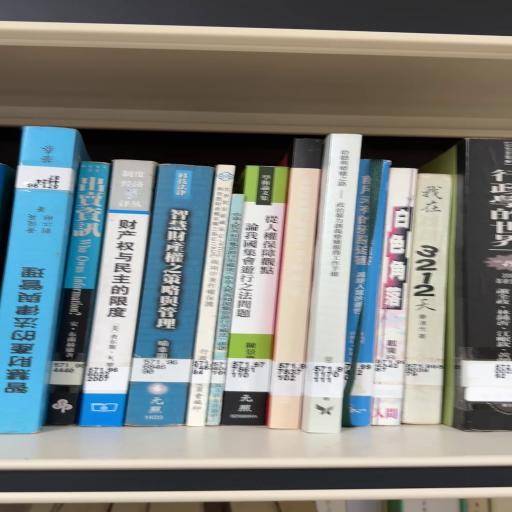reverse: (1, 128, 89, 435)
